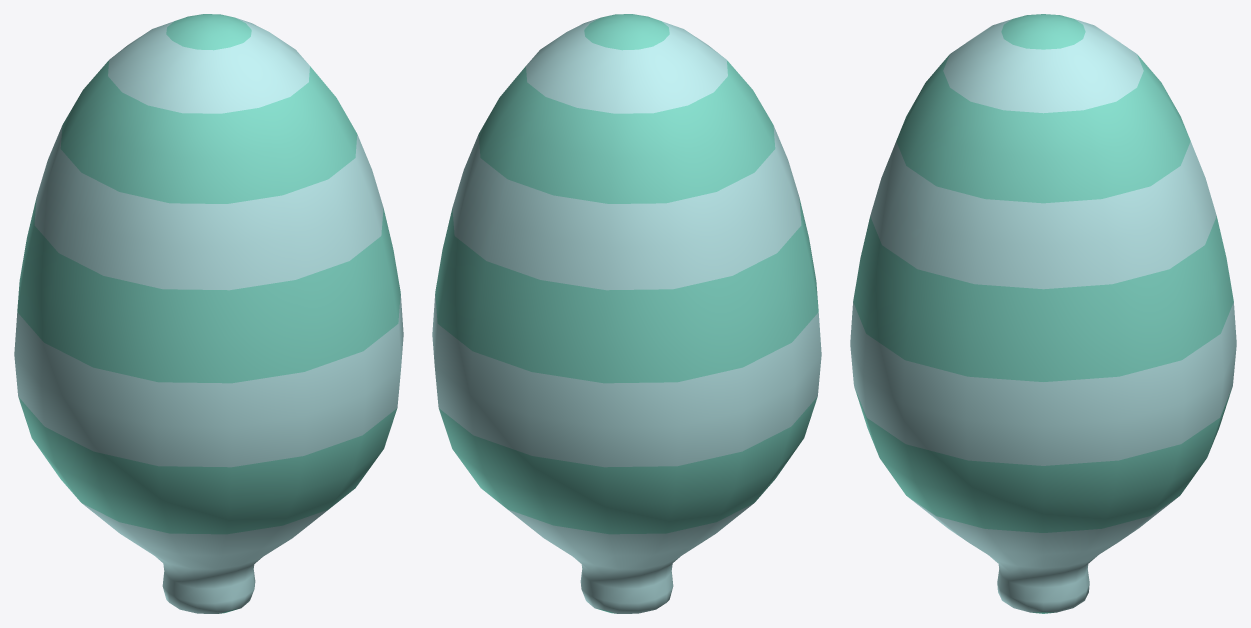
The model's file is Egger_03.fbx.
3 views of the same model, side by side, from view 1: azimuth 30°, elevation 25°; view 2: azimuth 150°, elevation 25°; view 3: azimuth 270°, elevation 25° (orthographic).
Parts seen in each view (by area): view 1: Egger_03_LOD0; view 2: Egger_03_LOD0; view 3: Egger_03_LOD0.
Boxes of the visible parts, x1,y1,x2,y2 form: Egger_03_LOD0: (14,14,403,613); Egger_03_LOD0: (432,14,821,613); Egger_03_LOD0: (850,14,1236,613).
Size of what is drawn, in the model's own units: 310 by 513 by 310.
